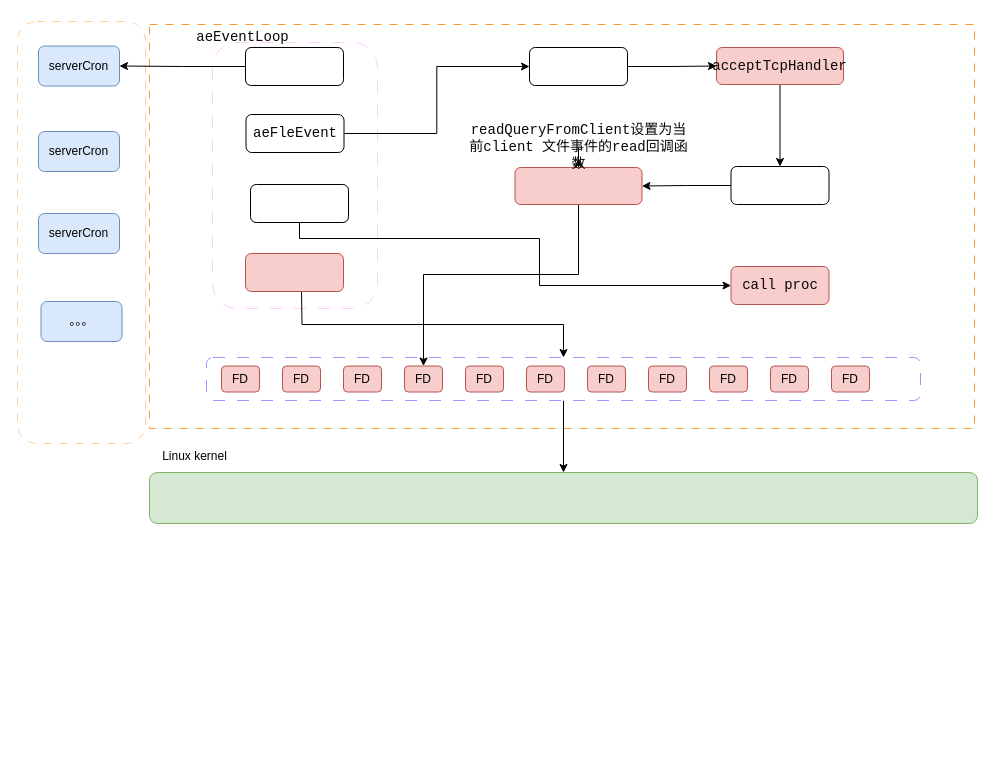
This 995x774 diagram has some shape labels left out. Each missing label, with the centre of its shape:
aeApiState: (294,272)
aeCreateFileEvent: (578,185)
aeTimeEvent: (294,66)
create client: (779,185)
epoll: (563,498)
fired：已就绪的文件事件: (299,203)
listen file: (578,66)
